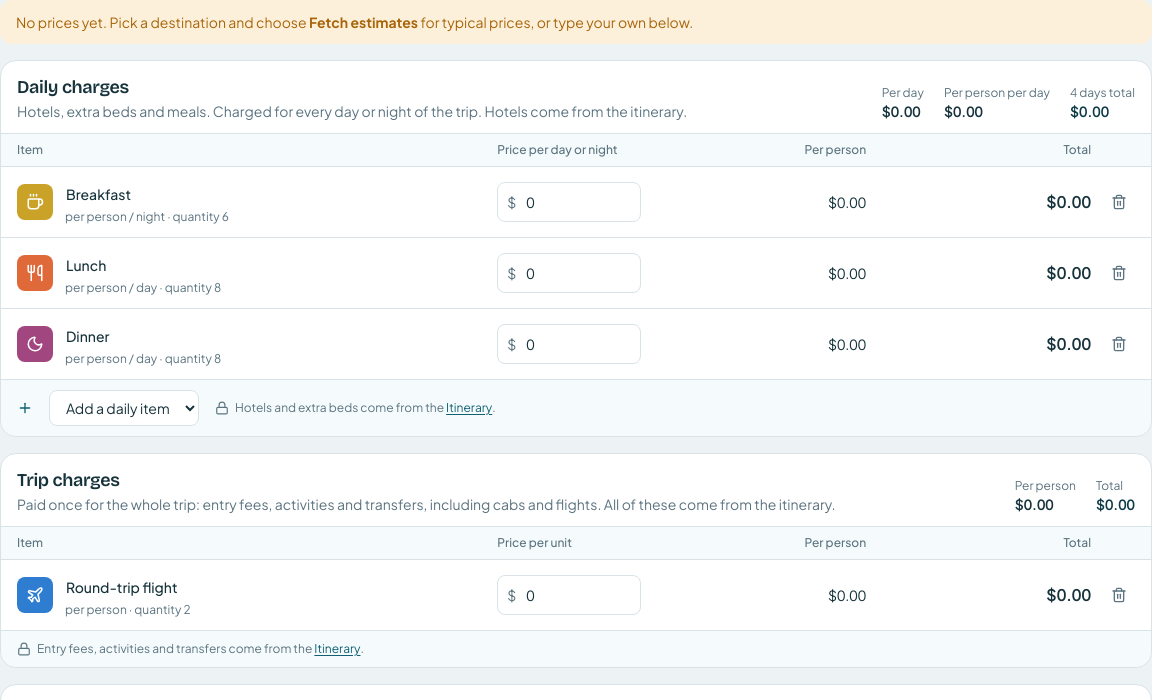
Test: CostTable › shows an icon per category and updates totals when a price is edited
Step 1. Replace the text in the number field named "Flights unit price" with "500" → (569, 595), box [497,575,641,615]
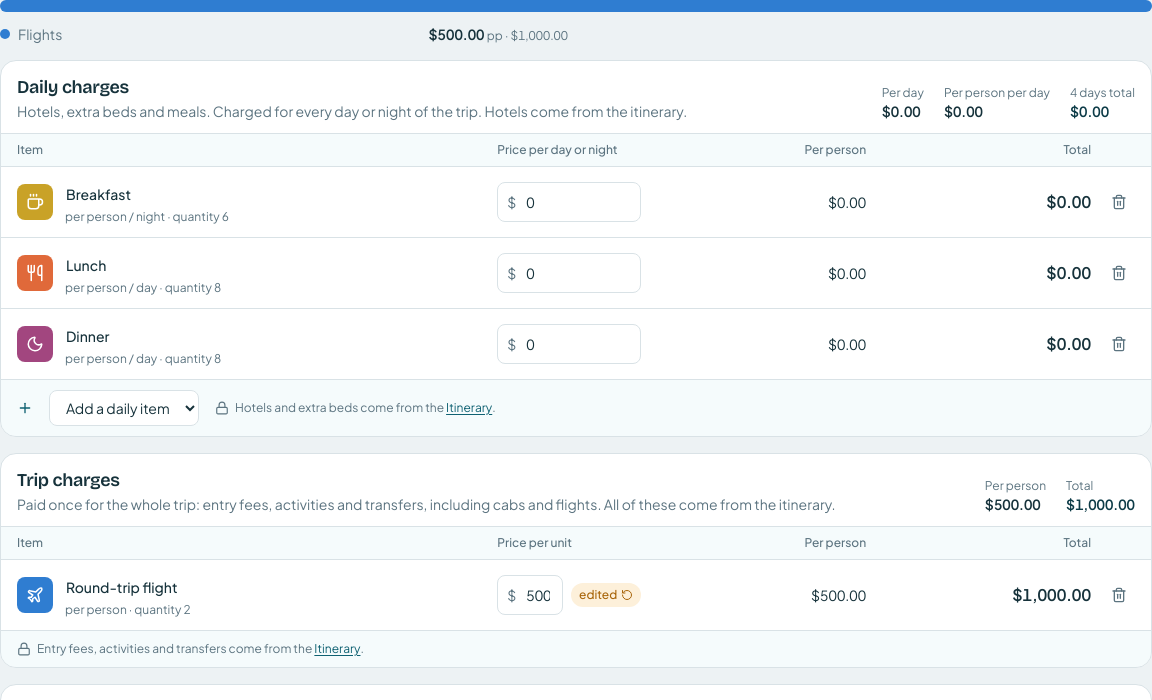
Now the button "edited" is shown, box [571,583,641,607]
